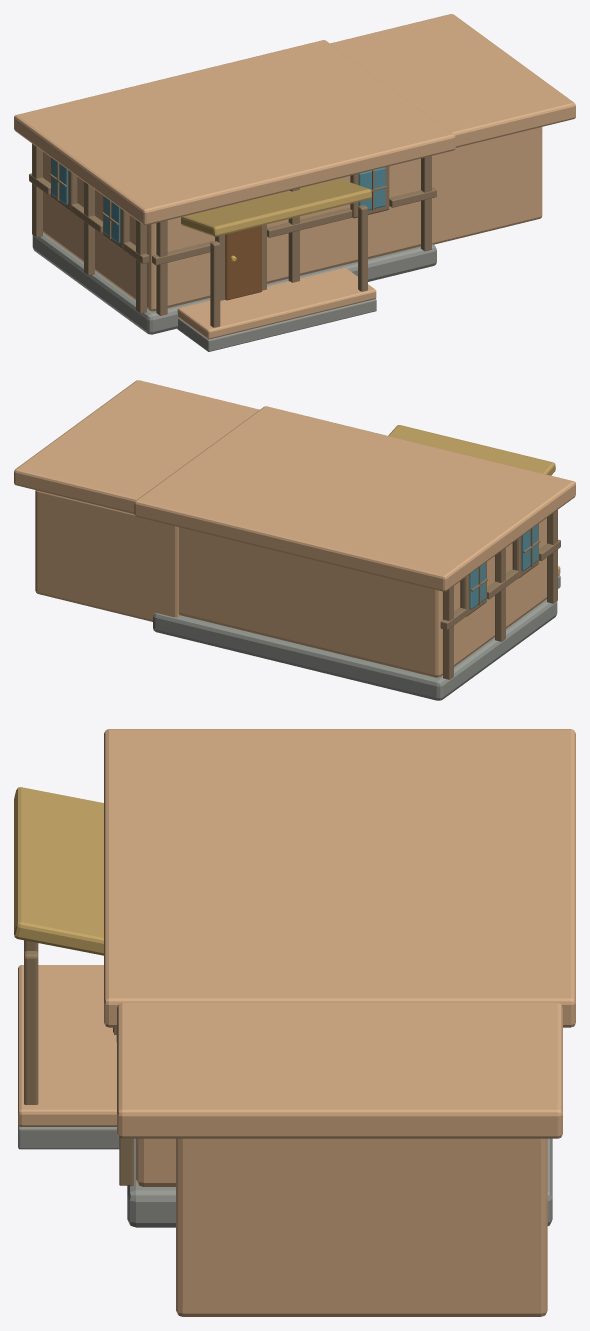
File: arid-farmstead-2.glb
3 views of the same model, one above another, from view 1: azimuth 30°, elevation 25°; view 2: azimuth 150°, elevation 25°; view 3: azimuth 270°, elevation 25° (orthographic). The views are drawn at different scales.
Visible parts, largest first — view 1: Adobe cream, Adobe wood, Palm beams, Foundation stone, Golden thatch, Door oak, Blue glass; view 2: Adobe cream, Adobe wood, Foundation stone, Palm beams, Golden thatch, Blue glass; view 3: Adobe cream, Adobe wood, Golden thatch, Foundation stone, Palm beams.
Boxes of the visible parts, box(x1,y1,x2,y2) form: Adobe cream: box(14, 14, 575, 225); Adobe wood: box(43, 127, 542, 339); Palm beams: box(29, 143, 436, 327); Foundation stone: box(32, 233, 436, 351); Golden thatch: box(181, 178, 371, 236); Door oak: box(225, 225, 261, 300); Blue glass: box(51, 158, 385, 243); Adobe cream: box(14, 380, 575, 591); Adobe wood: box(35, 490, 560, 677); Foundation stone: box(153, 575, 560, 700); Palm beams: box(440, 510, 560, 679); Golden thatch: box(388, 425, 555, 475); Blue glass: box(469, 524, 538, 609); Adobe cream: box(104, 729, 575, 1138); Adobe wood: box(18, 965, 547, 1316); Golden thatch: box(14, 787, 103, 955); Foundation stone: box(18, 1124, 552, 1227); Palm beams: box(24, 940, 133, 1185).
Size of the model in its own units: 6.21 by 1.82 by 3.86.
